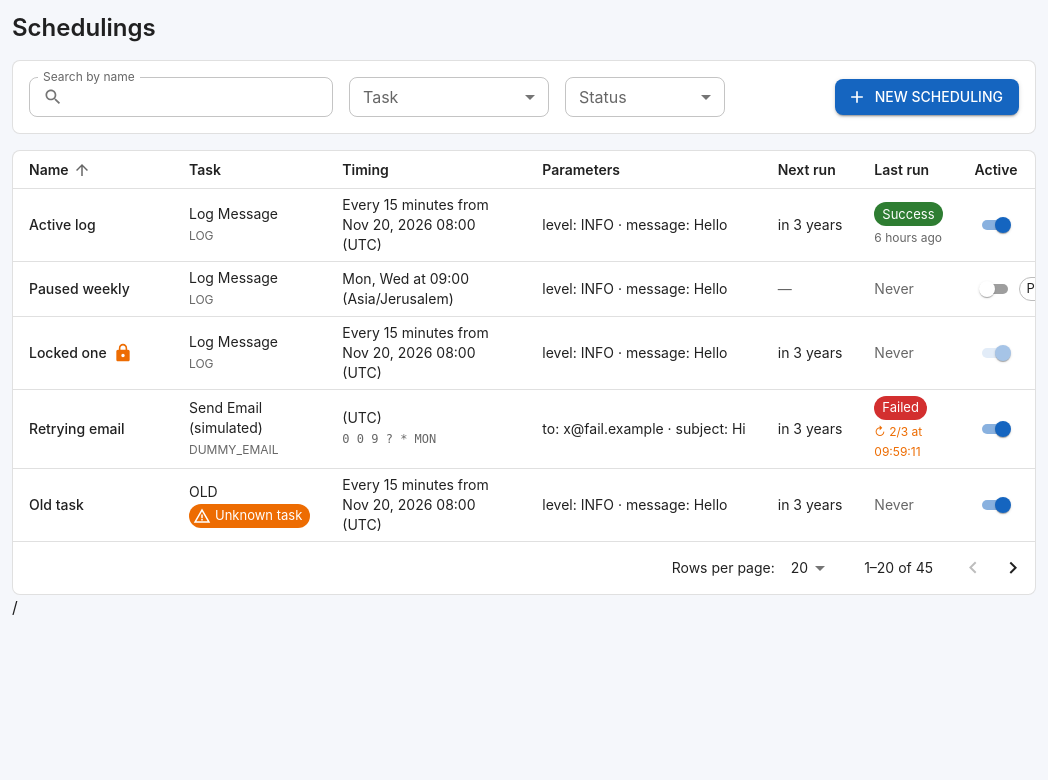
SchedulingsPage › pages through results
Expected: the text "Active log" is shown, left=29, top=215, right=96, bottom=235
Click the button named "Go to next page" at (1013, 568), box left=993, top=548, right=1033, bottom=588
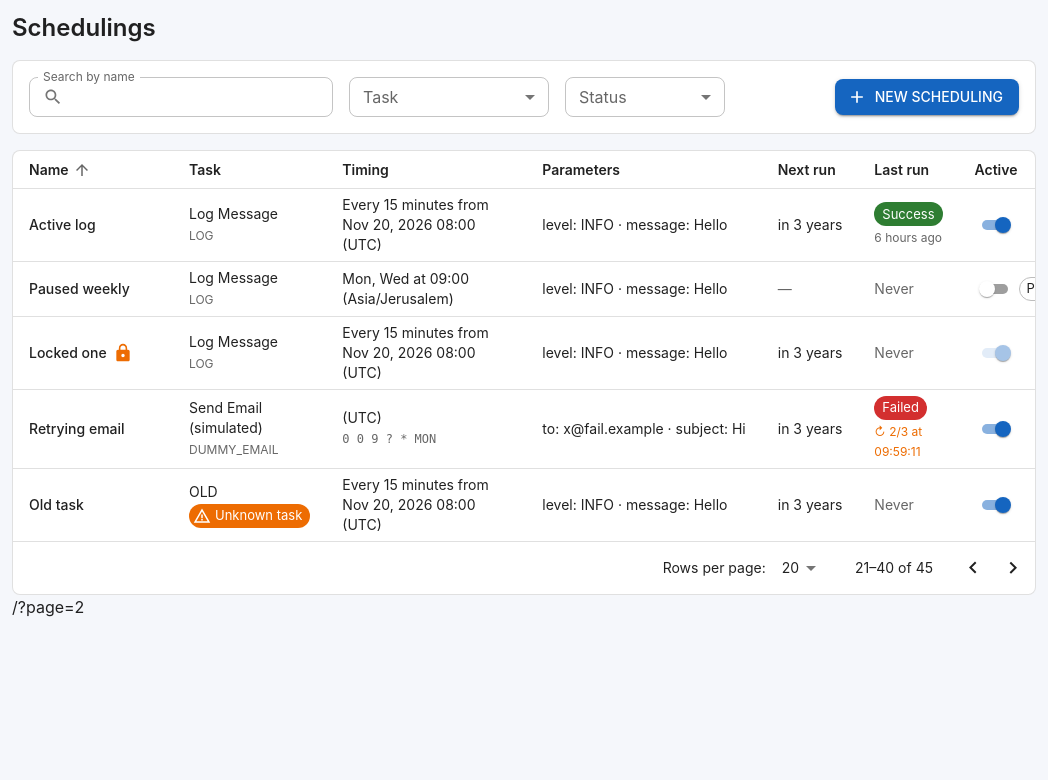
Expected: the text with test id "location" reads "/?page=2", left=12, top=597, right=84, bottom=617
